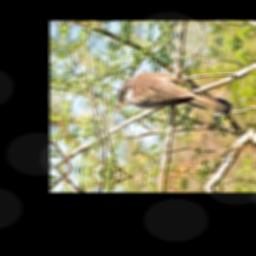Cuckoo: (116, 67, 235, 129)
